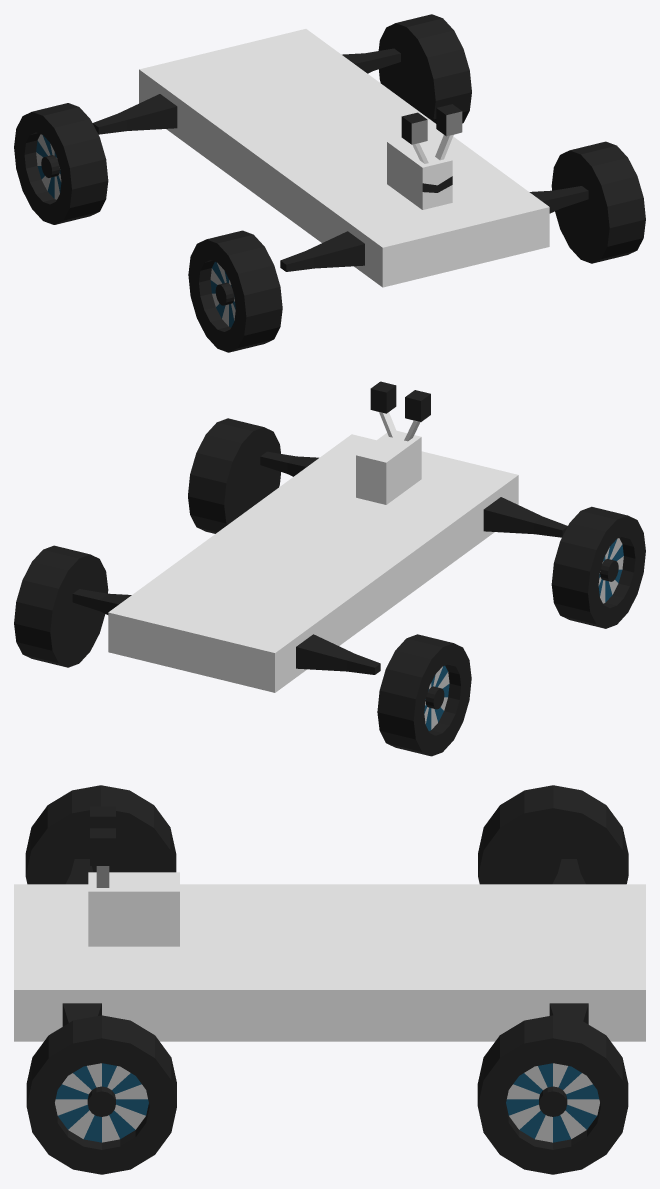
Rendered from test-vehicle.glb.
3 views of the same model, one above another, from view 1: azimuth 30°, elevation 25°; view 2: azimuth 150°, elevation 25°; view 3: azimuth 270°, elevation 25° (orthographic). The views are drawn at different scales.
Parts seen in each view (by area): view 1: chassis, front-right-tire, back-right-tire, front-left-tire, back-left-tire; view 2: chassis, back-right-tire, front-right-tire, back-left-tire, front-left-tire; view 3: chassis, back-left-tire, front-left-tire, back-right-tire, front-right-tire.
Boxes of the visible parts, x1,y1,x2,y2 form: chassis: (92,29,588,287); front-right-tire: (188,230,282,352); back-right-tire: (14,103,108,224); front-left-tire: (551,141,645,263); back-left-tire: (378,14,471,123); chassis: (72,381,567,692); back-right-tire: (377,634,471,756); front-right-tire: (551,506,645,628); back-left-tire: (14,545,108,667); front-left-tire: (188,418,280,533); chassis: (14,806,645,1041); back-left-tire: (477,1015,628,1174); front-left-tire: (26,1015,176,1174); back-right-tire: (478,785,628,884); front-right-tire: (25,785,176,884).
Size of the model in its own units: 7.96 by 3.45 by 8.4.
Materials: 1 (1 with a texture image).
